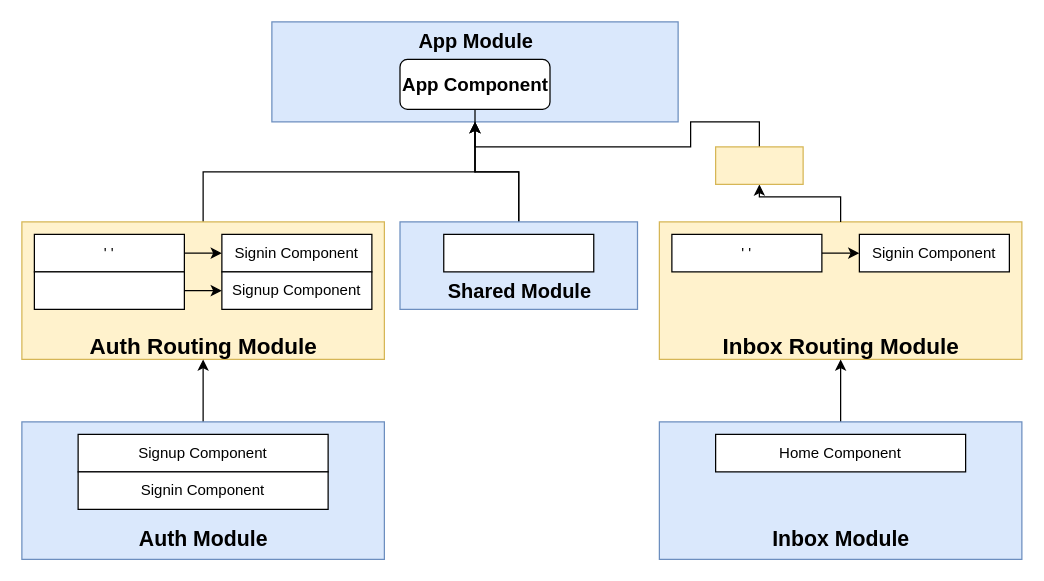
Some shapes in this 1044 by 581 pixel diagram are drawn without their labels. The centre of each missing label's shape, as x and y in pixels:
'signup': point (108, 290)
Guard: point (758, 165)
Input Component: point (518, 252)
